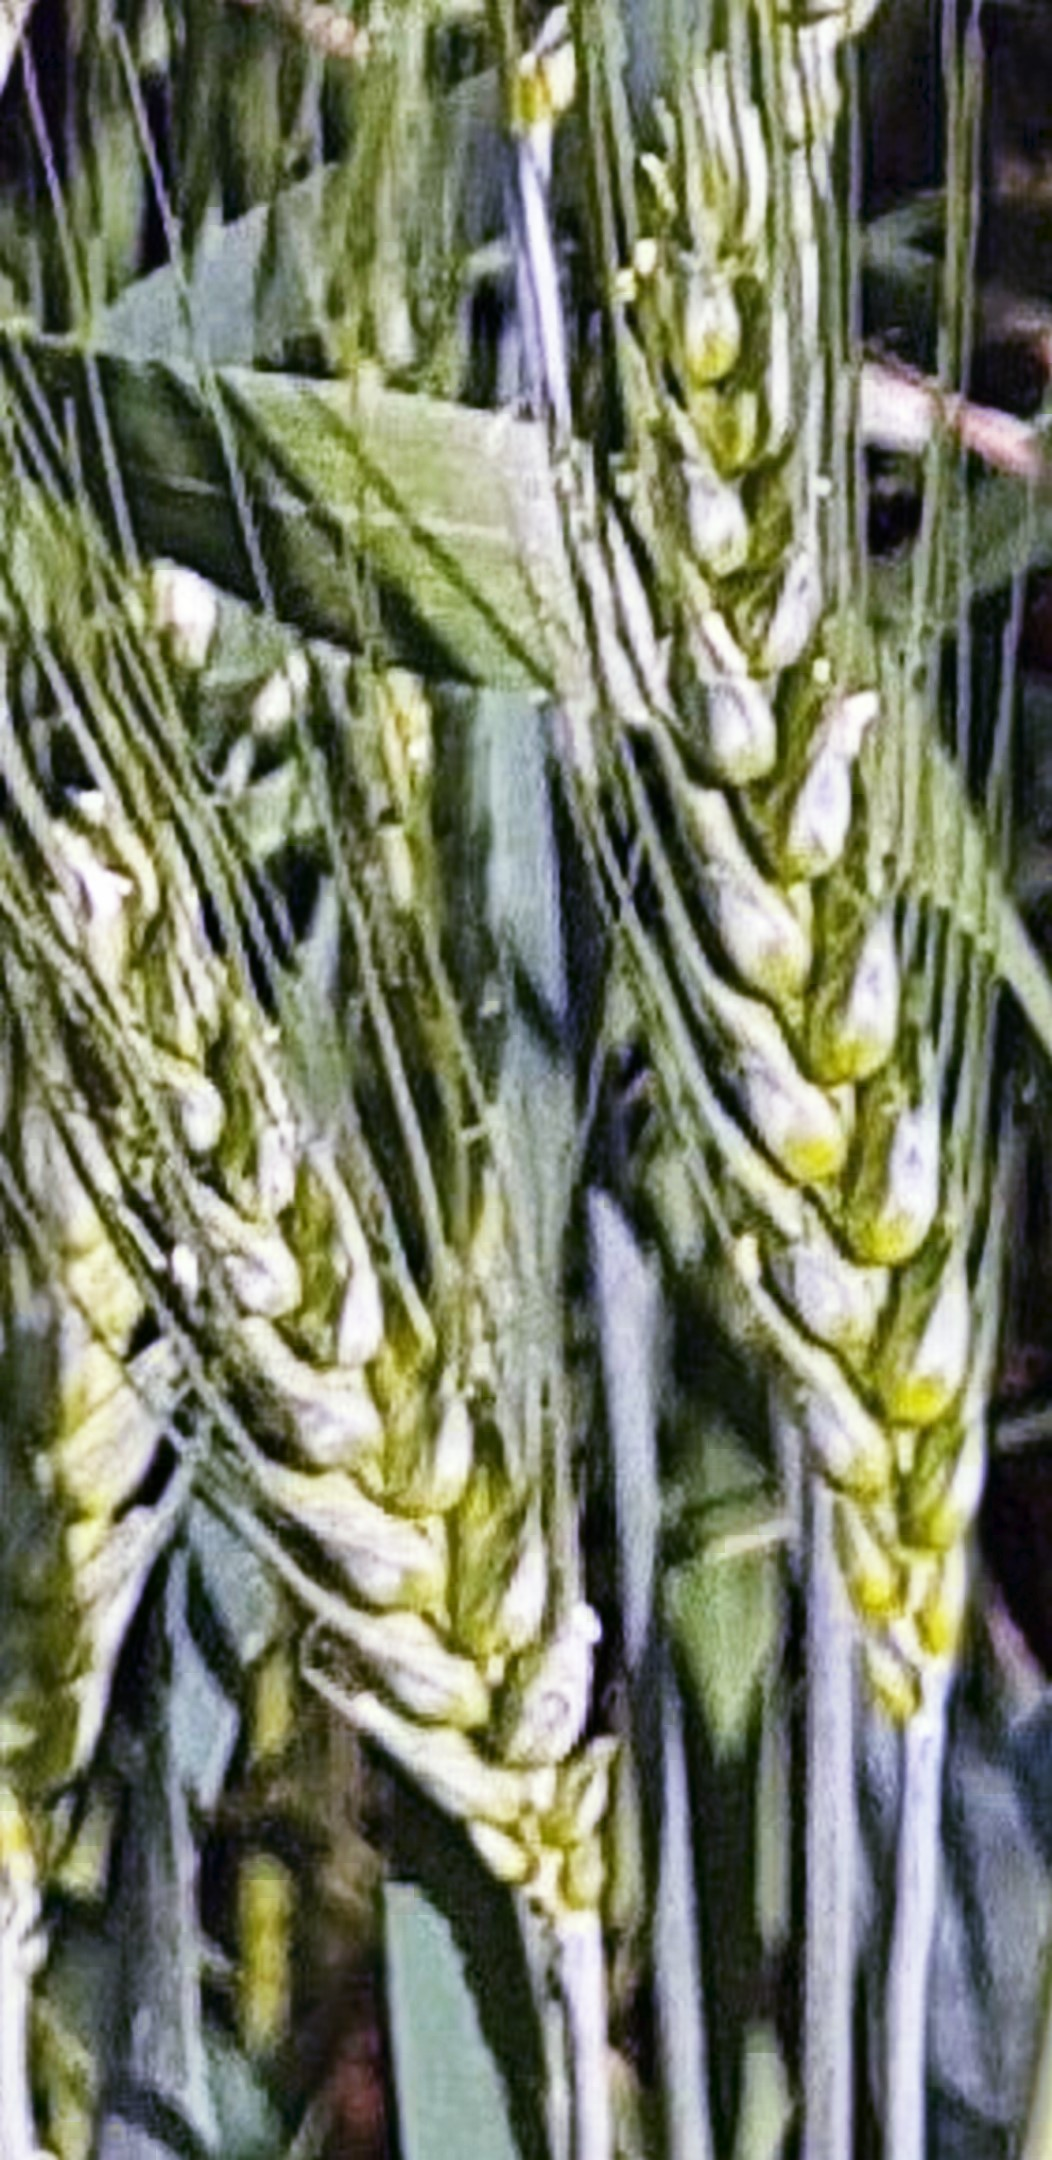Healthy Wheat: (581, 187, 1052, 1601)
